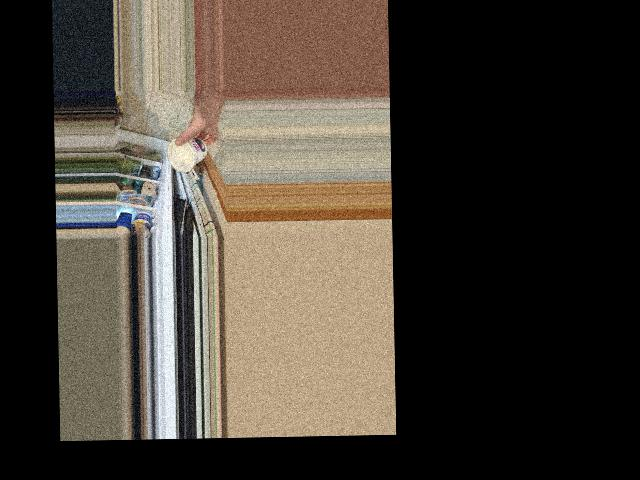cotage: (167, 131, 211, 173)
